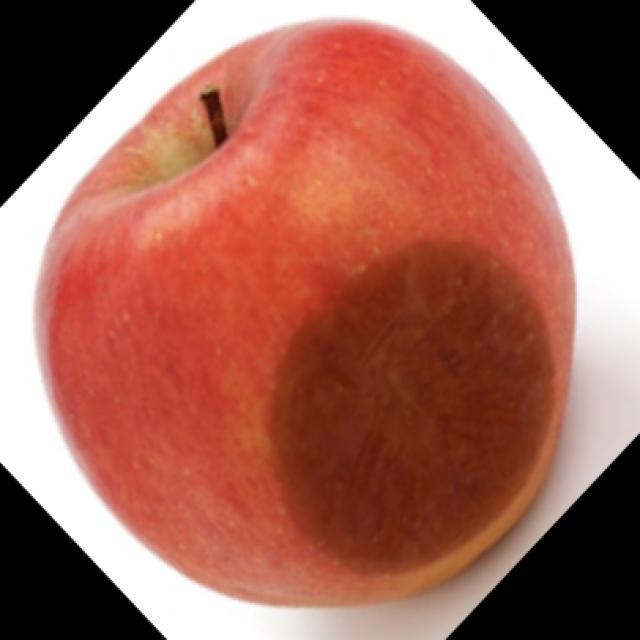Rotten: (67, 28, 585, 587)
